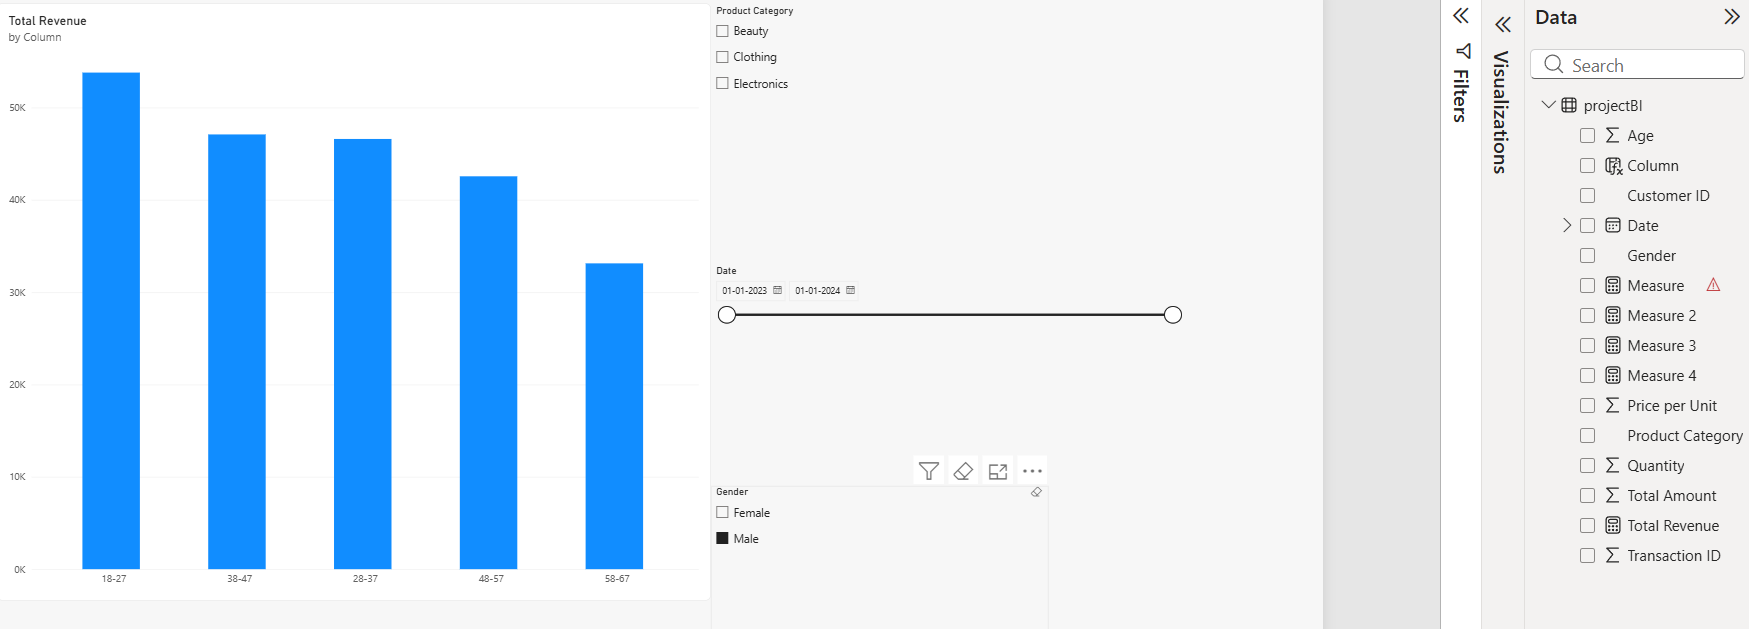

The dashboard page shown, as its layout file describes it:
{"tool":"powerbi","page":{"name":"Page 2","canvas":[1920,1080],"ordinal":1},"visuals":[{"type":"clusteredColumnChart","fields":{"Category":["projectBI.Column"],"Y":["projectBI.Total Revenue"]},"box":[0,16.5,1033.3,864.5],"z":0},{"type":"slicer","fields":{"Values":["projectBI.Gender"]},"box":[1033.3,714.2,487.8,366.4],"z":1000},{"type":"slicer","fields":{"Values":["projectBI.Product Category"]},"box":[1033.3,18.5,543.4,376.7],"z":2000},{"type":"slicer","fields":{"Values":["projectBI.Date"]},"box":[1033.3,395.2,685.4,288.2],"z":3000}]}

Visuals, with their boxes on the page's 1920x1080 design canvas (x1, y1, x2, y2). These are canvas units, not pixel positions in the 1749x629 screenshot, which may show the page scaled, cropped or inside an application window:
clusteredColumnChart - projectBI.Column x projectBI.Total Revenue: crop(0, 16, 1033, 881)
slicer - projectBI.Gender: crop(1033, 714, 1521, 1081)
slicer - projectBI.Product Category: crop(1033, 18, 1577, 395)
slicer - projectBI.Date: crop(1033, 395, 1719, 683)
